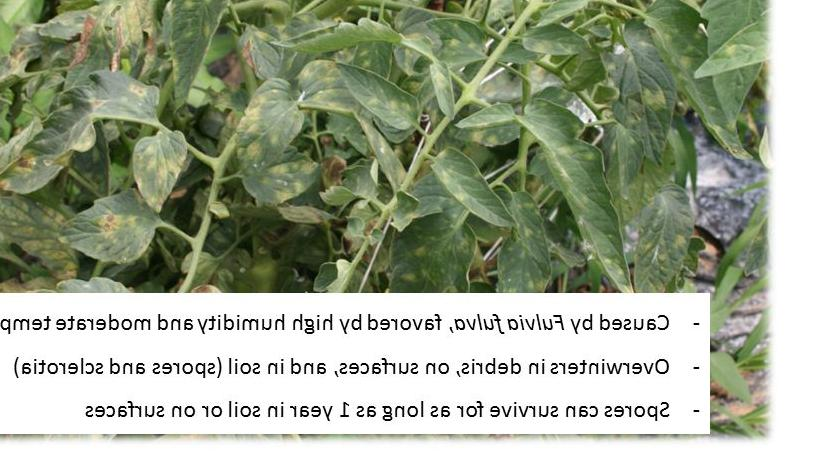Tomato mold leaf: (529, 100, 637, 290), (628, 0, 756, 159), (0, 75, 136, 194), (283, 52, 418, 132), (613, 37, 682, 187), (169, 0, 247, 113), (51, 186, 158, 267), (0, 176, 81, 273), (429, 146, 518, 233), (235, 76, 306, 170), (129, 127, 195, 220), (500, 190, 555, 290), (421, 15, 487, 66), (451, 101, 523, 139), (516, 25, 586, 58), (428, 60, 454, 120)
